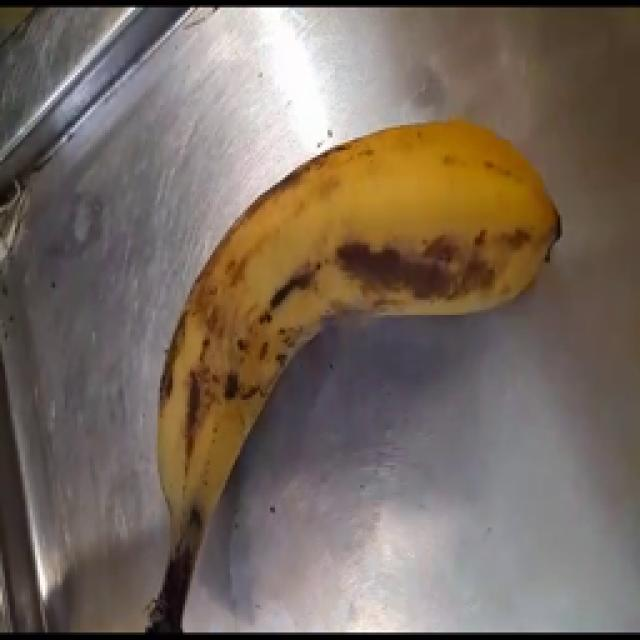Rotten_Banana: (138, 82, 610, 398)
